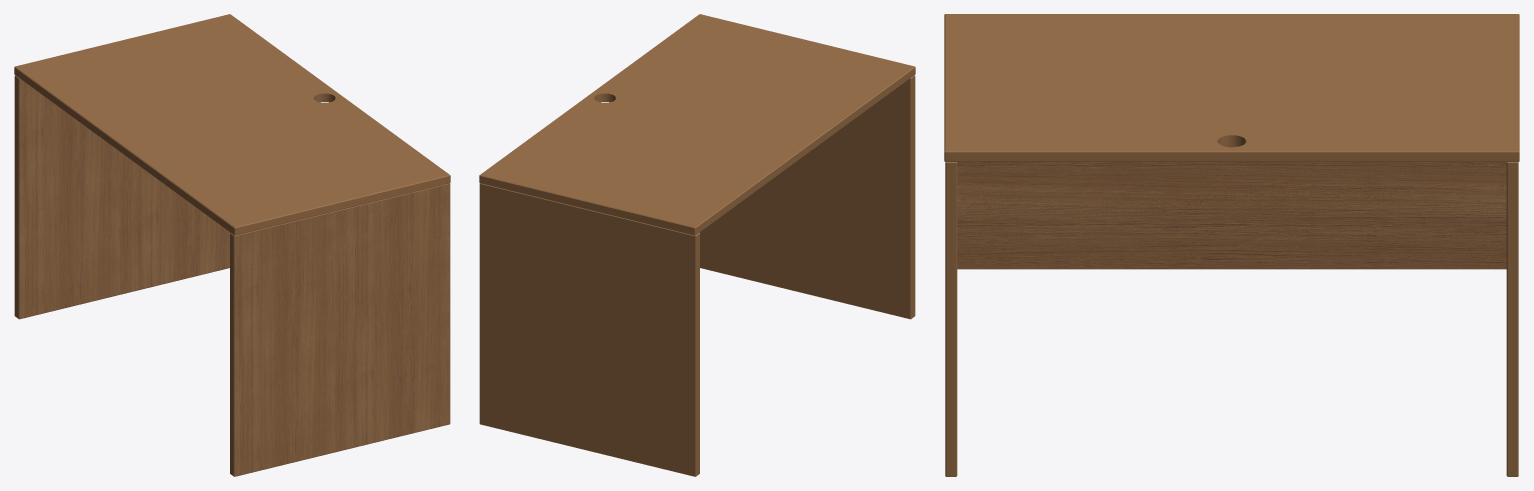
Rendered from Desk_dark.gltf.
3 views of the same model, side by side, from view 1: azimuth 30°, elevation 25°; view 2: azimuth 150°, elevation 25°; view 3: azimuth 270°, elevation 25° (orthographic). The views are drawn at different scales.
Visible parts, largest first — view 1: Desk; view 2: Desk; view 3: Desk.
Part boxes in pixels (x1=…): Desk: x1=14, y1=14, x2=450, y2=476; Desk: x1=479, y1=14, x2=915, y2=476; Desk: x1=944, y1=14, x2=1519, y2=476.
Size of the model in its own units: 6.8 by 7.5 by 12.
Materials: 1 (1 with a texture image).
